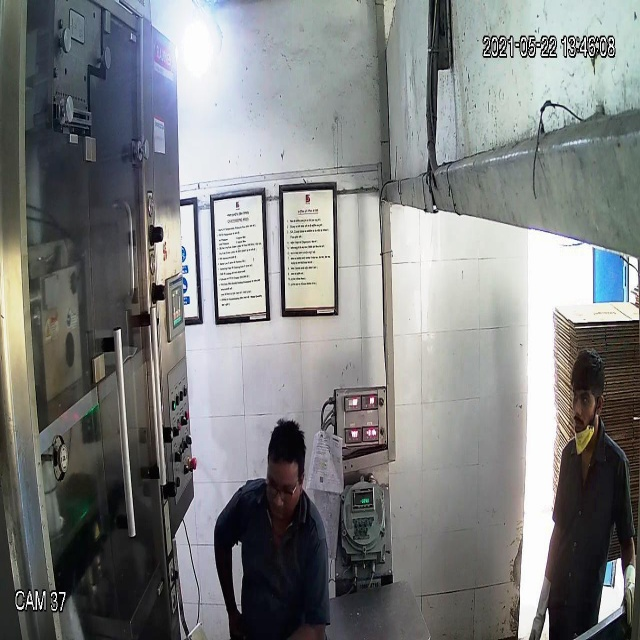Gafas: (262, 472, 305, 505)
Sin_gafas: (567, 383, 603, 412)
